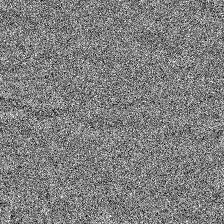cavities: (39, 126, 224, 222)
